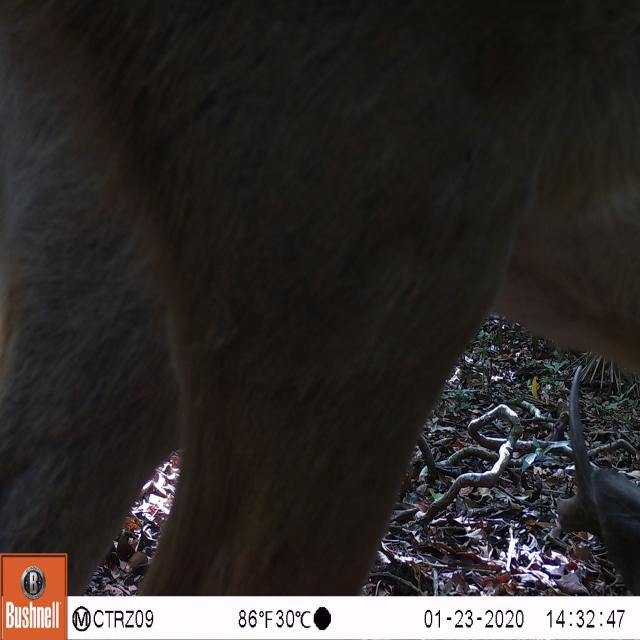White-tailed Deer: (0, 3, 640, 550)
